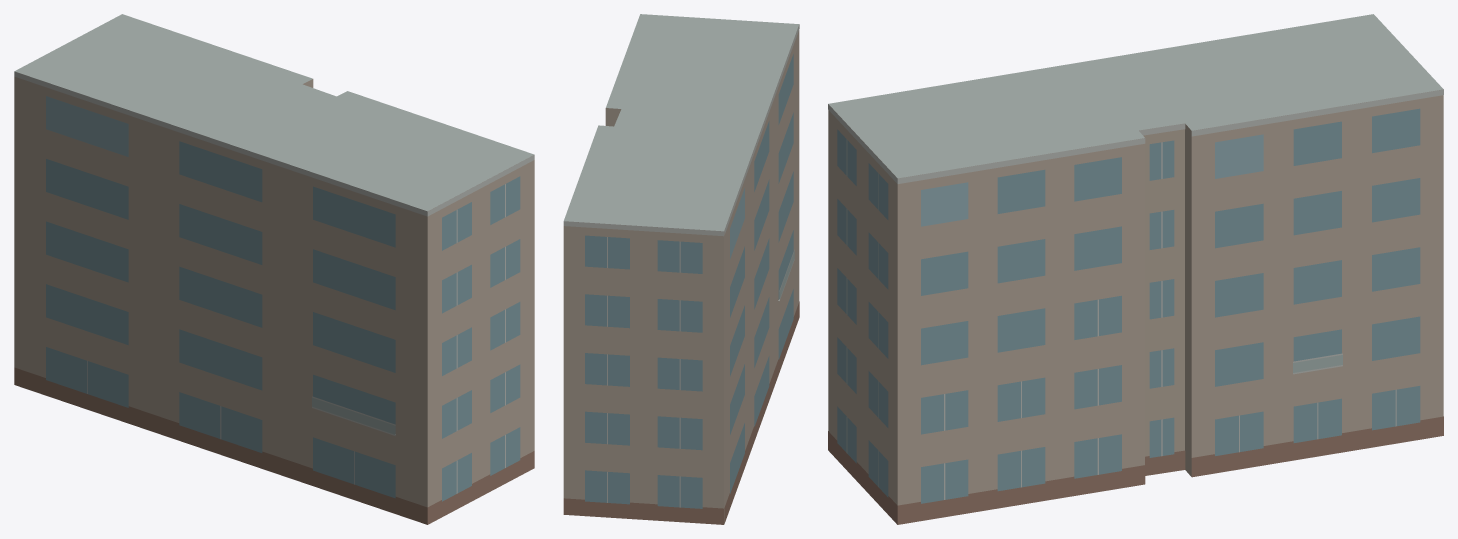
The model's file is survey-upis-32866747.glb.
3 renders of one model, left to right at view 1: azimuth 30°, elevation 25°; view 2: azimuth 150°, elevation 25°; view 3: azimuth 270°, elevation 25°, orthographic. The views are drawn at different scales.
Visible parts, largest first — view 1: survey-upis-32866747.tmp; view 2: survey-upis-32866747.tmp; view 3: survey-upis-32866747.tmp.
Boxes of the visible parts, box(x1,y1,x2,y2) form: survey-upis-32866747.tmp: box(14, 14, 534, 524); survey-upis-32866747.tmp: box(563, 14, 799, 524); survey-upis-32866747.tmp: box(828, 14, 1443, 524).
Size of the model in its own units: 14.92 by 14.65 by 23.6.
